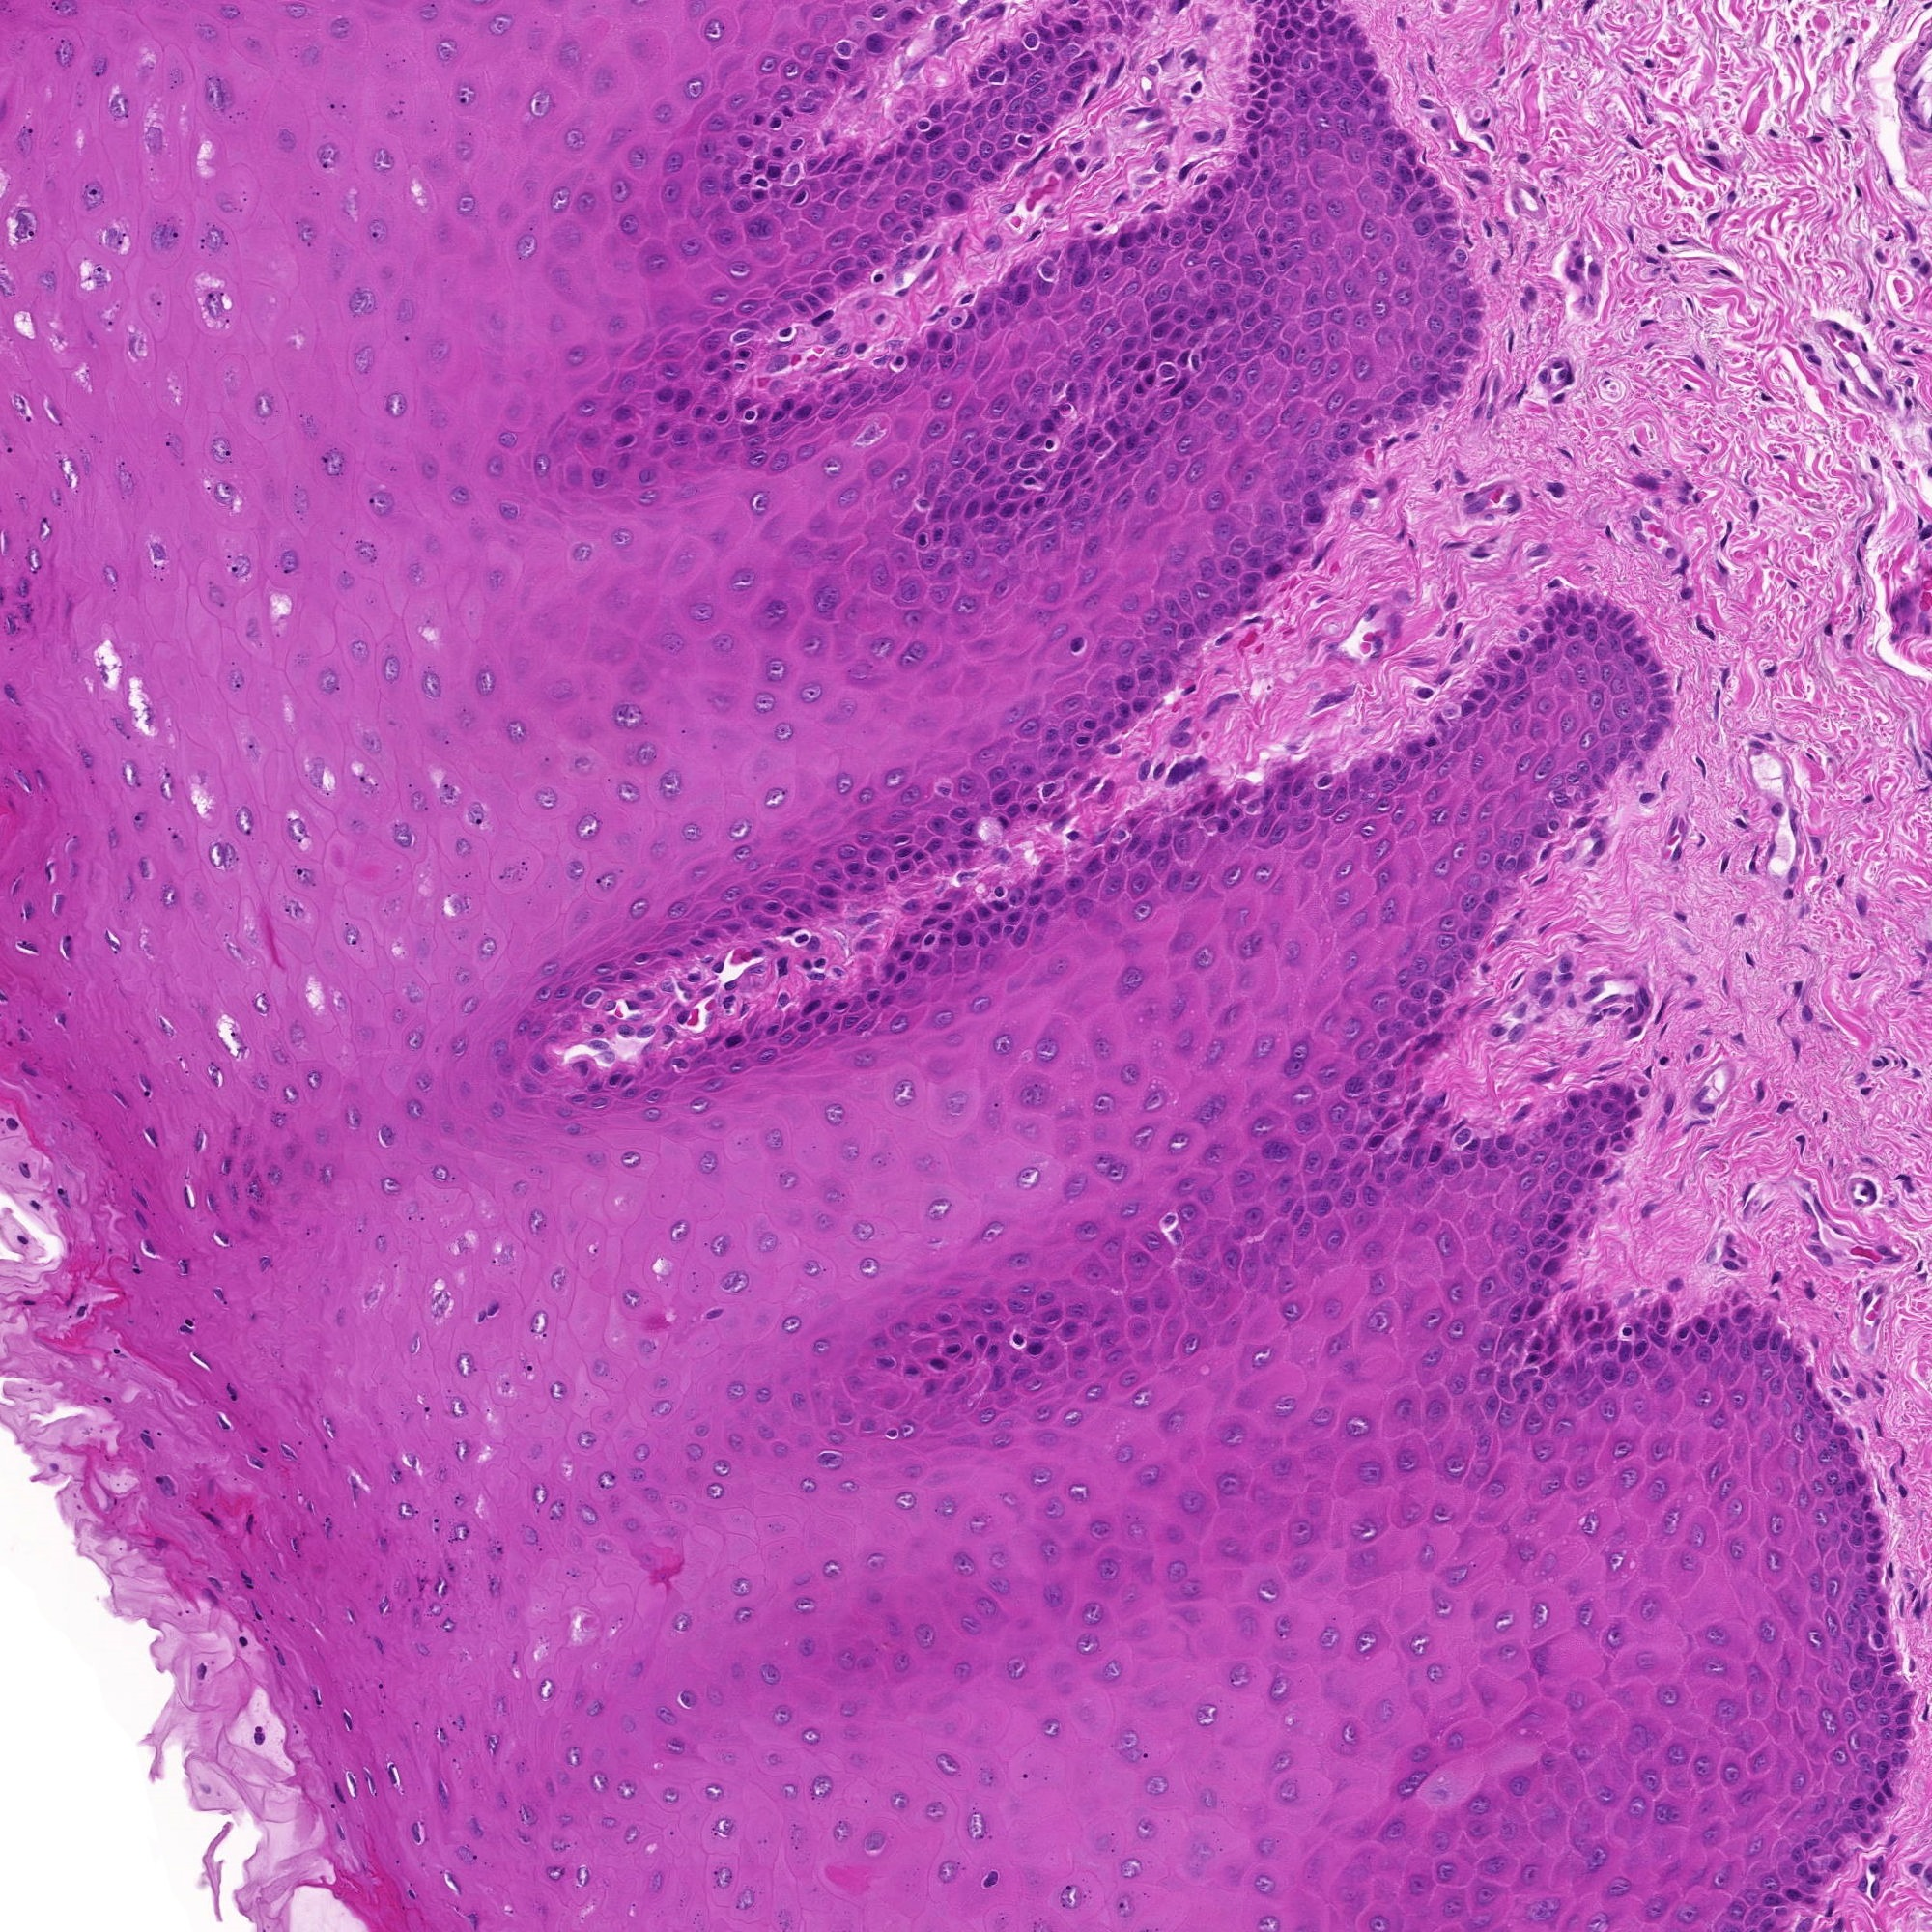epithelial: (761, 402, 793, 435), (778, 1016, 812, 1047), (1134, 363, 1168, 395), (1249, 62, 1281, 96), (1168, 311, 1200, 345), (1414, 219, 1445, 253), (975, 295, 1007, 329), (1205, 593, 1237, 626), (991, 913, 1023, 947), (1353, 1118, 1387, 1150), (1364, 1146, 1398, 1178), (1185, 1100, 1219, 1132), (152, 218, 184, 249), (99, 219, 131, 251), (370, 143, 402, 175), (103, 88, 134, 120), (34, 264, 65, 295), (117, 327, 149, 359), (209, 435, 241, 467), (12, 895, 44, 927), (97, 821, 129, 853), (142, 534, 173, 566), (274, 547, 306, 579), (53, 591, 85, 623), (28, 508, 60, 540), (281, 816, 313, 847), (336, 922, 368, 954), (18, 545, 50, 577), (124, 1201, 156, 1233), (170, 1249, 202, 1281), (198, 1058, 230, 1090), (207, 1221, 239, 1253), (120, 1253, 152, 1284), (276, 1076, 308, 1108), (375, 1757, 407, 1789), (340, 1472, 372, 1504), (149, 1467, 180, 1499), (331, 1704, 363, 1736), (324, 1815, 356, 1847), (918, 115, 950, 147), (665, 386, 697, 418), (665, 421, 697, 453), (646, 412, 678, 444), (931, 333, 962, 364), (610, 425, 642, 456), (901, 138, 932, 170), (752, 398, 784, 430), (823, 221, 855, 253), (886, 157, 918, 189), (729, 165, 761, 196), (828, 147, 860, 179), (709, 340, 741, 372), (832, 172, 863, 203), (674, 232, 706, 264), (763, 349, 794, 380), (798, 150, 830, 182), (625, 334, 656, 366), (648, 97, 679, 129), (740, 428, 771, 460), (922, 395, 954, 426), (768, 444, 800, 476), (816, 177, 847, 209), (690, 196, 722, 228), (610, 444, 642, 476), (768, 287, 800, 318), (743, 412, 775, 444), (805, 41, 837, 73), (669, 377, 701, 409), (481, 449, 513, 481), (713, 161, 745, 193), (847, 182, 879, 214), (846, 234, 878, 265), (623, 32, 655, 64), (816, 44, 847, 76), (550, 35, 582, 67), (796, 393, 828, 425), (791, 435, 823, 467), (715, 149, 747, 180), (911, 349, 943, 380), (805, 264, 837, 295), (906, 159, 938, 191), (807, 166, 839, 198), (757, 890, 789, 922), (922, 807, 954, 839), (929, 925, 961, 957), (920, 499, 952, 531), (694, 918, 725, 950), (927, 890, 959, 922), (906, 524, 938, 556), (890, 846, 922, 878), (931, 490, 962, 522), (899, 635, 931, 667), (899, 600, 931, 632), (752, 899, 784, 931), (924, 916, 955, 948), (770, 895, 801, 927), (810, 888, 842, 920), (909, 833, 941, 865), (865, 626, 897, 658), (796, 625, 828, 656), (824, 766, 856, 798), (708, 899, 740, 931), (816, 883, 847, 915), (892, 642, 924, 674), (715, 878, 747, 909), (656, 915, 688, 947), (761, 600, 793, 632), (803, 510, 835, 541), (902, 504, 934, 536), (904, 543, 936, 575), (738, 901, 770, 932), (821, 869, 853, 901), (927, 832, 959, 863), (807, 863, 839, 895), (725, 883, 757, 915), (885, 796, 916, 828), (612, 773, 644, 805), (929, 502, 961, 534), (908, 497, 939, 529), (812, 839, 844, 870), (759, 878, 791, 909), (824, 989, 856, 1021), (858, 982, 890, 1014), (805, 1001, 837, 1033), (869, 1346, 901, 1378), (885, 961, 916, 993), (938, 1330, 970, 1362), (897, 1353, 929, 1385), (747, 1378, 778, 1410), (782, 1384, 814, 1415), (837, 991, 869, 1023), (694, 1146, 725, 1178), (563, 1083, 594, 1115), (775, 1307, 807, 1339), (906, 1330, 938, 1362), (855, 975, 886, 1007), (697, 1024, 729, 1056), (786, 1000, 817, 1031), (775, 1007, 807, 1039), (796, 1007, 828, 1039), (697, 1067, 729, 1099), (520, 1014, 552, 1046), (886, 1074, 918, 1106), (761, 1125, 793, 1157), (674, 1047, 706, 1079), (821, 1097, 853, 1129), (916, 1353, 948, 1385), (543, 1373, 575, 1405), (922, 1191, 954, 1223), (858, 1824, 890, 1856), (671, 1683, 702, 1714), (511, 1798, 543, 1829), (885, 1783, 916, 1815), (729, 1598, 761, 1629), (918, 1792, 950, 1824), (931, 1493, 962, 1525), (708, 1861, 740, 1893), (616, 1509, 648, 1541), (824, 1813, 856, 1845), (550, 1803, 582, 1835), (635, 1477, 667, 1509), (541, 1497, 573, 1529), (1192, 209, 1224, 241), (1007, 416, 1039, 448), (1115, 426, 1146, 458), (1162, 318, 1194, 350), (1141, 299, 1173, 331), (1164, 299, 1196, 331), (1247, 225, 1279, 257), (1033, 39, 1065, 71), (1026, 458, 1058, 490), (1031, 426, 1063, 458), (1378, 122, 1410, 154), (1090, 234, 1122, 265), (1168, 361, 1200, 393), (1152, 354, 1184, 386), (1200, 177, 1231, 209), (1274, 18, 1306, 50), (1099, 359, 1131, 391), (1154, 313, 1185, 345), (1415, 372, 1447, 403), (982, 62, 1014, 94), (1058, 9, 1090, 41), (1028, 18, 1060, 50), (980, 90, 1012, 122), (1039, 398, 1070, 430), (1231, 142, 1263, 173), (1062, 418, 1093, 449), (1178, 343, 1210, 375), (984, 149, 1016, 180), (1039, 25, 1070, 57), (1065, 449, 1097, 481), (1058, 235, 1090, 267), (1175, 205, 1207, 237), (1327, 414, 1359, 446), (1139, 212, 1171, 244), (984, 386, 1016, 418), (962, 103, 994, 134), (1297, 460, 1329, 492), (1233, 244, 1265, 276), (1187, 202, 1219, 234), (1014, 274, 1046, 306), (1246, 318, 1277, 350), (1346, 350, 1378, 382), (1364, 96, 1396, 127), (1258, 48, 1290, 80), (1242, 175, 1274, 207), (1341, 67, 1373, 99), (984, 50, 1016, 81), (1387, 387, 1419, 419), (1237, 120, 1269, 152), (1106, 433, 1138, 465), (1272, 396, 1304, 428), (1069, 460, 1100, 492), (1161, 212, 1192, 244), (1007, 35, 1039, 67), (1169, 396, 1201, 428), (1125, 338, 1157, 370), (1419, 308, 1451, 340), (1106, 364, 1138, 396), (1240, 311, 1272, 343), (1164, 274, 1196, 306), (1037, 460, 1069, 492), (1299, 25, 1330, 57), (1108, 448, 1139, 479), (1201, 188, 1233, 219), (1023, 34, 1054, 65), (1164, 407, 1196, 439), (1157, 455, 1189, 487), (1007, 257, 1039, 288), (1320, 299, 1352, 331), (1154, 303, 1185, 334), (1341, 35, 1373, 67), (1086, 377, 1118, 409), (1154, 329, 1185, 361), (1031, 103, 1063, 134), (1329, 111, 1361, 143), (1185, 356, 1217, 387), (1309, 27, 1341, 58), (1219, 260, 1251, 292), (1060, 265, 1092, 297), (1207, 242, 1238, 274), (1254, 19, 1286, 51), (1016, 372, 1047, 403), (1182, 448, 1214, 479), (1093, 418, 1125, 449), (1026, 65, 1058, 97), (1031, 373, 1063, 405), (1076, 354, 1108, 386), (1247, 145, 1279, 177), (1300, 350, 1332, 382), (1116, 271, 1148, 303), (1320, 74, 1352, 106), (1276, 244, 1307, 276), (1161, 350, 1192, 382), (994, 418, 1026, 449), (1408, 182, 1440, 214), (1005, 449, 1037, 481), (1368, 258, 1399, 290), (1058, 867, 1090, 899), (973, 490, 1005, 522), (996, 901, 1028, 932), (1187, 793, 1219, 824), (1258, 554, 1290, 586), (1019, 885, 1051, 916), (1108, 695, 1139, 727), (1233, 570, 1265, 602), (1148, 823, 1180, 855), (1003, 920, 1035, 952), (984, 770, 1016, 801), (1016, 490, 1047, 522), (1023, 893, 1054, 925), (984, 890, 1016, 922), (1095, 835, 1127, 867), (1051, 481, 1083, 513), (1295, 481, 1327, 513), (1076, 531, 1108, 563), (1146, 837, 1178, 869), (1299, 501, 1330, 533), (1237, 927, 1269, 959), (1169, 810, 1201, 842), (996, 794, 1028, 826), (1040, 736, 1072, 768), (971, 510, 1003, 541), (1171, 862, 1203, 893), (1099, 867, 1131, 899), (1408, 747, 1440, 778), (1014, 711, 1046, 743), (1062, 715, 1093, 747), (1131, 644, 1162, 676), (1104, 706, 1136, 738), (1069, 488, 1100, 520), (961, 904, 993, 936), (1010, 775, 1042, 807), (1086, 718, 1118, 750), (1086, 633, 1118, 665), (1261, 524, 1293, 556), (1164, 925, 1196, 957), (1200, 800, 1231, 832), (1046, 741, 1077, 773), (998, 775, 1030, 807), (985, 839, 1017, 870), (1007, 890, 1039, 922), (1005, 909, 1037, 941), (1276, 506, 1307, 538), (1159, 639, 1191, 671), (1062, 738, 1093, 770), (1226, 780, 1258, 812), (1290, 768, 1322, 800), (1083, 706, 1115, 738), (1223, 527, 1254, 559), (1223, 557, 1254, 589), (970, 481, 1001, 513), (989, 754, 1021, 786), (1062, 506, 1093, 538), (1037, 488, 1069, 520), (1366, 832, 1398, 863), (1169, 630, 1201, 662), (964, 1325, 996, 1357), (1237, 1198, 1269, 1230), (1030, 1283, 1062, 1315), (982, 1357, 1014, 1389), (1215, 1240, 1247, 1272), (1421, 982, 1453, 1014), (1138, 1224, 1169, 1256), (1023, 1315, 1054, 1346), (1362, 1095, 1394, 1127), (1320, 1221, 1352, 1253), (1085, 1028, 1116, 1060), (973, 1290, 1005, 1322), (1031, 1030, 1063, 1062), (1362, 1157, 1394, 1189), (1277, 1194, 1309, 1226), (1318, 1159, 1350, 1191), (1387, 1016, 1419, 1047), (1366, 1085, 1398, 1116), (1299, 1169, 1330, 1201), (1162, 991, 1194, 1023), (1419, 1392, 1451, 1424), (1269, 1134, 1300, 1166), (1361, 1267, 1392, 1299), (1083, 1306, 1115, 1338), (1378, 1039, 1410, 1070), (1336, 1352, 1368, 1384), (1116, 962, 1148, 994), (1274, 1053, 1306, 1085), (1394, 1111, 1426, 1143), (1185, 1235, 1217, 1267), (1315, 1187, 1346, 1219), (1113, 970, 1145, 1001), (1392, 1288, 1424, 1320), (1403, 1030, 1435, 1062), (1362, 984, 1394, 1016), (1350, 1129, 1382, 1161), (1403, 1012, 1435, 1044), (964, 989, 996, 1021), (1014, 1364, 1046, 1396), (1348, 1410, 1380, 1442), (1352, 1069, 1384, 1100), (1240, 1111, 1272, 1143), (1037, 1582, 1069, 1614), (1267, 1451, 1299, 1483), (1136, 1463, 1168, 1495), (1219, 1660, 1251, 1691), (1352, 1509, 1384, 1541), (982, 1569, 1014, 1601), (1311, 1622, 1343, 1654), (1191, 1697, 1223, 1729), (1403, 1760, 1435, 1792), (1346, 1545, 1378, 1576), (1192, 1783, 1224, 1815), (1208, 1470, 1240, 1502), (975, 1592, 1007, 1624), (1454, 287, 1486, 318), (1624, 642, 1656, 674), (1530, 626, 1562, 658), (1573, 607, 1605, 639), (1614, 632, 1645, 663), (1525, 632, 1557, 663), (1557, 600, 1589, 632), (1477, 663, 1509, 695), (1499, 637, 1530, 669), (1598, 626, 1629, 658), (1546, 784, 1578, 816), (1624, 678, 1656, 709), (7, 1017, 37, 1051), (738, 398, 771, 428), (913, 543, 947, 573), (996, 51, 1026, 85), (1046, 373, 1079, 403), (1115, 387, 1145, 421), (978, 69, 1008, 103), (1031, 453, 1065, 483), (1394, 172, 1424, 205), (1265, 230, 1295, 264), (1217, 290, 1251, 320), (1194, 784, 1224, 817), (1589, 598, 1622, 628), (205, 78, 237, 108), (414, 453, 444, 485), (85, 53, 115, 85), (271, 122, 301, 154), (48, 39, 80, 69), (428, 35, 460, 65), (310, 444, 341, 474), (290, 218, 322, 248), (310, 145, 341, 175), (359, 218, 391, 248), (380, 391, 410, 423), (249, 389, 281, 419), (12, 117, 42, 149), (39, 396, 71, 426), (207, 837, 239, 867), (12, 596, 42, 628), (71, 741, 101, 773), (32, 855, 62, 886), (389, 823, 421, 853), (122, 803, 154, 833), (317, 669, 347, 701), (127, 851, 159, 881), (25, 761, 57, 791), (18, 764, 48, 796), (416, 667, 446, 699), (221, 667, 253, 697), (58, 855, 90, 885), (11, 582, 41, 614), (375, 651, 407, 681), (366, 488, 396, 520), (161, 823, 193, 853), (12, 1054, 44, 1085), (258, 1159, 290, 1189), (372, 1118, 402, 1150), (196, 1185, 228, 1215), (172, 1309, 202, 1341), (398, 1092, 428, 1123), (239, 1175, 269, 1207), (138, 1118, 168, 1150), (310, 1159, 340, 1191), (444, 1031, 474, 1063), (299, 1062, 331, 1092), (249, 1246, 280, 1277), (306, 1120, 338, 1150), (402, 1024, 432, 1056), (235, 1162, 265, 1194), (451, 1348, 483, 1378), (425, 1284, 455, 1316), (426, 1157, 456, 1189), (143, 1527, 175, 1557), (311, 1509, 343, 1539), (280, 1529, 311, 1559), (368, 1527, 398, 1559), (366, 1591, 398, 1621), (301, 1683, 333, 1713), (395, 1879, 426, 1909), (265, 1640, 295, 1672), (444, 1707, 476, 1737), (426, 1720, 458, 1750), (258, 1559, 288, 1591), (363, 1629, 395, 1660), (354, 1762, 384, 1794), (393, 1495, 425, 1525), (338, 1767, 370, 1798), (453, 1840, 485, 1870), (405, 1568, 437, 1598), (97, 1486, 129, 1516), (938, 179, 970, 209), (747, 212, 778, 242), (706, 400, 736, 432), (695, 350, 727, 380), (694, 419, 725, 449), (609, 396, 639, 428), (784, 184, 816, 214), (922, 126, 952, 157), (660, 145, 690, 177), (709, 221, 740, 253), (612, 211, 644, 241), (920, 412, 952, 442), (731, 402, 761, 433), (823, 384, 855, 414), (702, 108, 732, 140), (931, 345, 962, 375), (727, 389, 757, 421), (745, 177, 775, 209), (853, 225, 883, 257), (897, 341, 929, 372), (734, 290, 764, 322), (709, 303, 741, 333), (692, 133, 722, 165), (826, 248, 856, 280), (656, 175, 686, 207), (858, 184, 890, 214), (878, 373, 909, 403), (846, 380, 878, 410), (922, 142, 954, 172), (559, 340, 591, 370), (692, 166, 724, 196), (639, 244, 671, 274), (570, 186, 602, 216), (571, 389, 603, 419), (607, 437, 639, 467), (713, 172, 743, 203), (796, 285, 826, 317), (729, 126, 759, 157), (708, 435, 740, 465), (653, 364, 683, 396), (817, 389, 847, 421), (858, 27, 890, 57), (740, 216, 770, 248), (655, 354, 685, 386), (927, 382, 959, 412), (801, 196, 833, 226), (901, 207, 931, 239), (862, 453, 892, 485), (791, 175, 821, 207), (832, 184, 862, 216), (678, 73, 709, 103), (607, 416, 639, 446), (605, 173, 637, 203), (916, 173, 948, 203), (856, 237, 886, 269), (847, 157, 879, 188), (658, 380, 688, 412), (941, 442, 973, 472), (736, 310, 766, 341), (878, 212, 908, 244), (754, 48, 786, 78), (701, 280, 732, 310), (916, 329, 947, 361), (706, 354, 738, 384), (890, 456, 920, 488), (702, 196, 732, 228), (823, 237, 855, 267), (559, 460, 591, 490), (676, 391, 708, 421), (916, 464, 948, 494), (524, 449, 554, 481), (697, 375, 727, 407), (660, 446, 692, 476), (699, 173, 731, 203), (642, 435, 674, 465), (702, 345, 734, 375), (793, 92, 824, 122), (911, 119, 941, 150), (649, 297, 679, 329), (589, 64, 619, 96), (939, 103, 970, 134), (941, 464, 971, 495), (759, 299, 789, 331), (690, 407, 720, 439), (846, 248, 876, 280), (778, 177, 810, 207), (816, 449, 846, 481), (786, 58, 817, 88), (800, 163, 830, 195), (757, 264, 789, 294), (706, 166, 738, 196), (927, 111, 957, 143), (886, 173, 916, 205), (885, 218, 916, 248), (932, 152, 964, 182), (839, 855, 870, 885), (860, 839, 890, 870), (931, 909, 962, 939), (909, 924, 941, 954), (731, 890, 763, 920), (909, 941, 939, 973), (904, 837, 934, 869), (759, 591, 789, 623), (791, 892, 821, 924), (607, 697, 639, 727), (881, 929, 911, 961), (932, 554, 962, 586), (626, 941, 658, 971), (895, 575, 927, 605), (939, 524, 970, 556), (773, 849, 805, 879), (830, 860, 862, 890), (748, 908, 780, 938), (729, 561, 759, 593), (849, 821, 879, 853), (718, 911, 748, 943), (895, 778, 927, 809), (817, 538, 847, 570), (752, 870, 784, 901), (855, 870, 885, 902), (927, 483, 959, 513), (837, 865, 867, 897), (759, 653, 791, 683), (916, 490, 947, 522), (559, 855, 591, 885), (706, 628, 738, 658), (878, 837, 908, 869), (865, 561, 897, 591), (855, 832, 886, 862), (879, 803, 909, 835), (768, 717, 798, 748), (886, 538, 916, 570), (849, 839, 881, 869), (908, 821, 939, 851), (931, 803, 961, 835), (501, 715, 531, 747), (564, 536, 594, 568), (916, 529, 947, 561), (805, 579, 837, 609), (925, 901, 957, 931), (835, 594, 867, 625), (876, 759, 908, 789), (621, 667, 653, 697), (878, 816, 908, 847), (688, 594, 720, 625), (796, 678, 828, 708), (870, 824, 902, 855), (909, 487, 939, 518), (897, 823, 929, 853), (918, 814, 948, 846), (927, 577, 959, 607), (832, 874, 863, 904), (922, 1348, 954, 1378), (833, 1005, 863, 1037), (870, 984, 901, 1016), (814, 1008, 844, 1040), (755, 1014, 787, 1044), (524, 1049, 556, 1079), (540, 977, 571, 1007), (750, 1042, 782, 1072), (863, 1325, 893, 1357), (885, 1311, 916, 1341), (936, 1318, 968, 1348), (511, 1010, 541, 1042), (885, 1005, 915, 1037), (771, 1021, 801, 1053), (612, 961, 644, 991), (842, 1008, 874, 1039), (909, 1311, 939, 1343), (876, 1384, 906, 1415), (580, 1070, 610, 1102), (805, 1329, 835, 1361), (830, 1399, 860, 1431), (718, 1265, 748, 1297), (688, 1044, 718, 1076), (527, 975, 557, 1007), (591, 962, 623, 993), (789, 1023, 821, 1053), (490, 1049, 522, 1079), (740, 1021, 771, 1051), (683, 1086, 713, 1118), (939, 1369, 970, 1401), (614, 1281, 646, 1311), (847, 1044, 878, 1076), (936, 1277, 968, 1307), (925, 1003, 957, 1033), (823, 1000, 855, 1030), (665, 1214, 695, 1246), (846, 985, 878, 1016), (895, 978, 927, 1008), (794, 1253, 826, 1283), (676, 1037, 708, 1067), (559, 1115, 589, 1146), (552, 1007, 582, 1039), (720, 1375, 752, 1405), (770, 1162, 801, 1192), (876, 966, 908, 996), (881, 1415, 913, 1445), (522, 1205, 552, 1237), (635, 1099, 667, 1129), (791, 1633, 823, 1663), (660, 1729, 692, 1759), (812, 1442, 842, 1474), (886, 1647, 918, 1677), (858, 1582, 888, 1614), (582, 1691, 612, 1723), (711, 1810, 741, 1842), (623, 1652, 653, 1684), (878, 1612, 909, 1642), (483, 1534, 513, 1566), (897, 1454, 927, 1486), (479, 1569, 510, 1601), (540, 1856, 571, 1886), (847, 1647, 879, 1677), (832, 1644, 863, 1674), (479, 1729, 510, 1760), (621, 1460, 653, 1490), (697, 1476, 729, 1506), (860, 1545, 890, 1576), (642, 1867, 674, 1897), (531, 1672, 561, 1704), (520, 1477, 552, 1507), (1143, 315, 1175, 345), (1129, 349, 1159, 380), (1108, 225, 1139, 255), (1150, 338, 1180, 370), (1161, 373, 1192, 403), (1067, 258, 1097, 290), (1401, 186, 1431, 218), (1097, 412, 1129, 442), (1005, 280, 1035, 311), (1077, 425, 1109, 455), (1051, 462, 1083, 492), (1194, 299, 1226, 329), (1408, 211, 1440, 241), (1016, 27, 1047, 57), (1169, 341, 1200, 373), (1251, 156, 1281, 188), (978, 435, 1008, 467), (1260, 58, 1292, 88), (994, 448, 1024, 479), (1392, 382, 1424, 412), (1295, 18, 1327, 48), (1203, 377, 1235, 407), (1046, 446, 1076, 478), (1288, 80, 1318, 111), (985, 416, 1017, 446), (1212, 170, 1244, 200), (1352, 58, 1382, 90), (1261, 67, 1292, 99), (1060, 51, 1090, 83), (1175, 382, 1205, 414), (1180, 308, 1210, 340), (1315, 51, 1346, 81), (1253, 41, 1284, 71), (1086, 430, 1118, 460), (1350, 85, 1380, 117), (1063, 437, 1093, 469), (1254, 32, 1286, 62), (1394, 159, 1426, 189), (1000, 462, 1031, 492), (1210, 295, 1240, 327), (1046, 18, 1077, 48), (1311, 14, 1343, 44), (1136, 343, 1168, 373), (1162, 223, 1192, 255), (1148, 216, 1180, 246), (1364, 163, 1396, 193), (1371, 143, 1401, 175), (1026, 269, 1056, 301), (1256, 117, 1288, 147), (1115, 241, 1146, 271), (1146, 306, 1177, 338), (1263, 221, 1293, 253), (1021, 426, 1053, 456), (1238, 134, 1269, 166), (1362, 71, 1392, 103), (1014, 462, 1046, 492), (1152, 396, 1184, 426), (1332, 433, 1362, 465), (959, 149, 991, 179), (1300, 69, 1330, 101), (1237, 260, 1267, 292), (1070, 290, 1102, 320), (970, 134, 1001, 165), (1097, 441, 1129, 471), (1336, 19, 1366, 51), (1269, 248, 1299, 280), (985, 41, 1017, 71), (1065, 244, 1097, 274), (1412, 166, 1444, 196), (1215, 357, 1247, 387), (994, 106, 1024, 138), (1010, 124, 1040, 156), (971, 159, 1001, 191), (1023, 442, 1053, 474), (1051, 81, 1083, 111), (1231, 285, 1261, 317), (1419, 203, 1449, 235), (1238, 99, 1269, 131), (1330, 87, 1361, 119), (1138, 251, 1169, 281), (1205, 405, 1237, 435), (1201, 248, 1231, 280), (1184, 260, 1214, 292), (1414, 380, 1444, 412), (1010, 366, 1040, 398), (1212, 219, 1242, 251), (1332, 9, 1362, 41), (1123, 435, 1154, 467), (1389, 280, 1419, 311), (1024, 280, 1054, 311), (1387, 186, 1419, 216), (977, 226, 1007, 258), (1026, 111, 1056, 143), (1097, 310, 1127, 341), (1145, 364, 1175, 396), (1207, 274, 1237, 306), (993, 278, 1023, 310), (1178, 322, 1208, 354), (1338, 276, 1368, 308), (1348, 74, 1378, 106), (1215, 237, 1246, 269), (1246, 78, 1276, 110), (1318, 191, 1348, 223), (1007, 269, 1037, 301), (1380, 152, 1412, 182), (991, 126, 1023, 156), (1085, 416, 1115, 448), (1230, 340, 1260, 372), (1069, 272, 1100, 303), (987, 138, 1017, 170), (1256, 163, 1286, 195), (1070, 235, 1100, 267), (1260, 78, 1290, 110), (973, 50, 1003, 81), (1021, 295, 1053, 326), (1283, 88, 1315, 119), (1288, 127, 1320, 157), (1207, 196, 1238, 226), (1065, 375, 1097, 405), (966, 94, 998, 124), (1001, 44, 1031, 76), (1352, 120, 1384, 150), (1244, 90, 1276, 120), (1178, 196, 1210, 226), (1384, 398, 1415, 428), (1095, 366, 1125, 398), (962, 428, 993, 460), (1100, 402, 1131, 433), (1108, 412, 1138, 444), (1148, 280, 1180, 310), (1295, 32, 1325, 64), (994, 62, 1024, 94), (1060, 458, 1090, 490), (1318, 437, 1350, 467), (1290, 48, 1322, 78), (1371, 113, 1401, 145), (1364, 290, 1394, 322), (1223, 382, 1254, 412), (1173, 303, 1203, 334), (1244, 106, 1276, 136), (1277, 209, 1307, 241), (1302, 156, 1332, 188), (1237, 200, 1269, 230), (1136, 283, 1166, 315), (978, 42, 1008, 74), (1054, 386, 1085, 418), (1284, 336, 1316, 366), (1219, 214, 1249, 246), (1132, 322, 1164, 352), (1169, 329, 1200, 361), (1049, 27, 1079, 58), (959, 65, 991, 96), (1284, 5, 1316, 35), (1399, 349, 1431, 379), (1223, 165, 1253, 196), (1178, 242, 1208, 274), (1412, 350, 1442, 382), (1062, 23, 1093, 53), (1093, 352, 1125, 382), (971, 444, 1001, 476), (1302, 124, 1332, 156), (1304, 50, 1336, 80), (1030, 418, 1062, 448), (1237, 456, 1267, 488), (1389, 145, 1419, 177), (1345, 304, 1376, 334), (994, 437, 1024, 469), (1235, 324, 1267, 354), (1090, 407, 1122, 437), (1318, 311, 1348, 343), (1359, 111, 1389, 143), (1327, 25, 1359, 55), (1279, 403, 1309, 435), (1256, 96, 1286, 127), (1014, 97, 1046, 127), (1261, 331, 1293, 361), (1256, 106, 1286, 138), (1185, 329, 1215, 361), (1201, 203, 1231, 235), (1007, 90, 1039, 120), (970, 65, 1001, 96), (996, 396, 1026, 428), (1325, 426, 1357, 456), (1288, 27, 1320, 57), (1339, 140, 1369, 172), (1194, 193, 1226, 223), (1361, 398, 1391, 430), (1219, 320, 1251, 350), (970, 143, 1001, 173), (1208, 368, 1240, 398), (1148, 402, 1178, 433), (1108, 669, 1139, 699), (985, 782, 1017, 812), (968, 897, 1000, 927), (982, 761, 1014, 791), (985, 479, 1017, 510), (1031, 508, 1063, 538), (1237, 543, 1269, 573), (1215, 552, 1246, 584), (1219, 796, 1251, 826), (968, 925, 1000, 955), (1272, 770, 1302, 801), (1281, 771, 1311, 803), (1012, 755, 1044, 786), (1281, 533, 1311, 564), (1177, 794, 1207, 826), (1123, 828, 1154, 860), (1001, 881, 1031, 913), (1290, 786, 1322, 816), (1237, 563, 1269, 593), (1253, 778, 1283, 810), (1125, 867, 1155, 899), (1269, 782, 1300, 812), (1366, 787, 1398, 817), (1040, 755, 1072, 786), (1109, 685, 1139, 717), (1023, 874, 1053, 906), (1398, 734, 1430, 764), (1067, 890, 1099, 920), (1419, 794, 1449, 826), (1157, 863, 1189, 893), (1127, 481, 1159, 511), (1362, 748, 1394, 778), (975, 501, 1005, 533), (1215, 858, 1246, 890), (1382, 750, 1414, 780), (1230, 810, 1260, 842), (973, 906, 1003, 938), (1192, 552, 1223, 584), (1031, 775, 1063, 805), (1157, 591, 1187, 623), (1187, 603, 1217, 635), (1253, 501, 1284, 531), (1368, 863, 1399, 893), (1263, 816, 1295, 846), (1207, 511, 1238, 541), (1265, 791, 1297, 821), (1208, 789, 1240, 819), (968, 793, 1000, 823), (1286, 809, 1318, 839), (1010, 495, 1040, 527), (1201, 483, 1233, 513), (1039, 579, 1069, 610), (1122, 517, 1152, 548), (1187, 573, 1219, 603), (1118, 810, 1148, 842), (1341, 761, 1371, 793), (1056, 686, 1088, 717), (1350, 816, 1382, 846), (1113, 633, 1143, 665), (1076, 722, 1108, 752), (1214, 805, 1246, 835), (1373, 897, 1403, 929), (1373, 770, 1405, 800), (1219, 593, 1249, 625), (1350, 764, 1380, 796), (1138, 602, 1168, 633), (1024, 865, 1054, 897), (1233, 801, 1263, 833), (1203, 552, 1235, 582), (1008, 508, 1039, 540), (1033, 729, 1063, 761), (1217, 584, 1249, 614), (1169, 821, 1200, 853), (1279, 524, 1311, 554), (1178, 610, 1210, 640), (1129, 835, 1161, 865), (1053, 732, 1083, 764), (1164, 722, 1196, 752), (1008, 485, 1039, 517), (1235, 550, 1265, 582), (1109, 832, 1141, 862), (1127, 893, 1159, 924), (1307, 775, 1339, 805), (1196, 490, 1228, 520), (1051, 870, 1083, 901), (1097, 669, 1129, 699), (993, 893, 1023, 925), (1382, 801, 1414, 832), (1263, 775, 1295, 805), (993, 515, 1023, 547), (1233, 580, 1263, 612), (1327, 886, 1359, 916), (959, 587, 989, 619), (1196, 598, 1228, 628), (1019, 908, 1049, 939), (1164, 540, 1194, 571), (1247, 853, 1277, 885), (1419, 805, 1451, 835), (1070, 563, 1100, 594), (1012, 916, 1042, 948), (1295, 844, 1325, 876), (1123, 885, 1155, 915), (1122, 819, 1152, 851), (1421, 1136, 1451, 1168), (1339, 1069, 1371, 1099), (1019, 1332, 1051, 1362), (1035, 1300, 1067, 1330), (1065, 1336, 1095, 1368), (1307, 1191, 1338, 1223), (1403, 977, 1435, 1007), (1410, 1003, 1442, 1033), (1122, 1290, 1154, 1320), (1371, 1033, 1403, 1063), (1290, 1108, 1322, 1138), (1391, 1141, 1422, 1171), (1072, 1212, 1102, 1244), (1401, 1118, 1431, 1150), (1394, 1131, 1424, 1162), (1196, 1136, 1228, 1166), (1419, 994, 1451, 1024), (1125, 1299, 1155, 1330), (1343, 1154, 1373, 1185), (1391, 1391, 1421, 1422), (1279, 1046, 1311, 1076), (1092, 1322, 1122, 1353), (1173, 1194, 1205, 1224), (1311, 1060, 1343, 1090), (1288, 1212, 1320, 1242), (1086, 1088, 1118, 1118), (1016, 1077, 1047, 1108), (982, 1368, 1012, 1399), (1368, 1014, 1399, 1044), (1169, 1168, 1200, 1200), (1097, 1226, 1129, 1256), (1035, 1343, 1065, 1375), (1177, 1327, 1207, 1359), (1246, 1106, 1277, 1136), (1154, 1403, 1184, 1435), (971, 1399, 1003, 1430), (1417, 1341, 1447, 1373), (1412, 1168, 1442, 1200), (1099, 1152, 1129, 1184), (1162, 1219, 1192, 1251), (1115, 1362, 1145, 1394), (1081, 1376, 1111, 1408), (1286, 1031, 1316, 1063), (1403, 1042, 1433, 1074), (1116, 1192, 1146, 1224), (1417, 1304, 1447, 1336), (1417, 1154, 1447, 1185), (1410, 982, 1442, 1012), (993, 1357, 1024, 1387), (1215, 1415, 1247, 1445), (1350, 1111, 1380, 1143), (1138, 1081, 1168, 1113), (1031, 1307, 1062, 1339), (1364, 1106, 1394, 1138), (1373, 1143, 1405, 1173), (1348, 1205, 1378, 1237), (1288, 1076, 1320, 1106), (1028, 1398, 1060, 1428), (1284, 1201, 1315, 1233), (1297, 1194, 1329, 1224), (1001, 1348, 1031, 1380), (1162, 1120, 1192, 1152), (1387, 966, 1419, 996), (1387, 1033, 1417, 1065), (1214, 998, 1246, 1028), (1171, 1028, 1201, 1060), (1058, 1171, 1090, 1201), (1348, 1033, 1378, 1065), (1410, 1100, 1442, 1131), (1348, 1086, 1378, 1118), (959, 1309, 989, 1341), (1378, 1026, 1408, 1058), (1270, 1392, 1300, 1424), (1306, 1403, 1338, 1433), (1058, 1405, 1090, 1435), (1008, 1330, 1039, 1362), (1387, 1099, 1419, 1129), (1028, 1327, 1058, 1359), (1403, 1150, 1433, 1182), (991, 1382, 1021, 1414), (1235, 1246, 1267, 1276), (1341, 1115, 1371, 1146), (1315, 1168, 1345, 1200), (1129, 1120, 1159, 1152), (1088, 1143, 1118, 1175), (1401, 1868, 1433, 1898), (1357, 1458, 1389, 1488), (1378, 1812, 1410, 1842), (1389, 1444, 1421, 1474), (1214, 1465, 1246, 1495), (1394, 1767, 1426, 1798), (1267, 1612, 1299, 1642), (1074, 1594, 1106, 1624), (1033, 1534, 1063, 1566), (1261, 1674, 1292, 1706), (1346, 1624, 1378, 1654), (1178, 1488, 1210, 1518), (1254, 1573, 1286, 1603), (1403, 1748, 1433, 1780), (1336, 1718, 1366, 1750), (1177, 1576, 1207, 1608), (1063, 1532, 1095, 1562), (1389, 1771, 1419, 1803), (1392, 1500, 1424, 1530), (1129, 1548, 1159, 1580), (1095, 1656, 1125, 1688), (1053, 1877, 1083, 1909), (1106, 1890, 1138, 1920), (1247, 1833, 1279, 1863), (1265, 1744, 1297, 1775), (1131, 1810, 1161, 1842), (1361, 1902, 1392, 1932), (1422, 1497, 1453, 1529), (1454, 318, 1484, 350), (1458, 299, 1488, 331), (1442, 301, 1472, 333), (1451, 276, 1481, 308), (1440, 322, 1472, 352), (1560, 614, 1592, 644), (1488, 667, 1520, 697), (1534, 612, 1564, 644), (1548, 591, 1580, 621), (1568, 593, 1599, 623), (1504, 683, 1534, 715), (1550, 609, 1582, 639), (1504, 662, 1536, 692), (1453, 692, 1484, 722), (1645, 692, 1677, 722), (1525, 649, 1557, 679), (1453, 938, 1484, 968), (1559, 633, 1591, 663), (1582, 681, 1614, 711), (1529, 750, 1560, 780), (1460, 916, 1491, 947), (1454, 886, 1484, 918), (1622, 626, 1652, 658), (1642, 663, 1672, 695), (1493, 644, 1525, 674), (1559, 763, 1591, 793), (1033, 720, 1067, 748), (343, 281, 373, 311), (7, 205, 37, 235), (326, 11, 356, 41), (448, 83, 478, 113), (83, 258, 113, 288), (451, 188, 481, 218), (237, 28, 267, 58), (297, 39, 327, 69), (196, 80, 226, 110), (9, 573, 39, 603), (44, 886, 74, 916), (433, 775, 464, 805), (154, 879, 184, 909), (2, 870, 32, 901), (134, 701, 165, 731), (462, 803, 492, 833), (352, 538, 382, 568), (97, 927, 127, 957), (446, 830, 476, 860), (446, 890, 476, 920), (60, 828, 90, 858), (120, 759, 150, 789), (212, 1148, 242, 1178), (262, 1102, 292, 1132), (276, 1136, 306, 1166), (134, 1231, 165, 1261), (126, 1184, 156, 1214), (409, 1067, 439, 1097), (218, 1177, 248, 1207), (182, 1127, 212, 1157), (341, 1102, 372, 1132), (375, 1168, 405, 1198), (55, 1072, 85, 1102), (104, 1081, 134, 1111), (241, 1200, 271, 1230), (219, 1118, 249, 1148), (433, 1111, 464, 1141), (449, 1074, 479, 1104), (184, 1341, 214, 1371), (234, 1152, 264, 1182), (315, 1410, 345, 1440), (364, 1226, 395, 1256), (433, 1610, 464, 1640), (460, 1812, 490, 1842), (195, 1470, 225, 1500), (426, 1571, 456, 1601), (338, 1599, 368, 1629), (648, 380, 678, 410), (734, 414, 764, 444), (685, 396, 715, 426), (789, 396, 819, 426), (725, 189, 755, 219), (796, 60, 826, 90), (573, 425, 603, 455), (625, 142, 655, 172), (741, 442, 771, 472), (584, 462, 614, 492), (768, 80, 798, 110), (814, 398, 844, 428), (809, 152, 839, 182), (695, 329, 725, 359), (832, 264, 862, 294), (913, 196, 943, 226), (925, 327, 955, 357), (870, 205, 901, 235), (925, 154, 955, 184), (892, 188, 922, 218), (602, 308, 632, 338), (773, 280, 803, 310), (807, 276, 837, 306), (840, 152, 870, 182), (632, 460, 662, 490), (840, 373, 870, 403), (886, 134, 916, 165), (655, 338, 685, 368), (612, 366, 642, 396), (833, 161, 863, 191), (722, 87, 752, 117), (775, 51, 805, 81), (908, 127, 938, 157), (938, 161, 968, 191), (906, 345, 936, 375), (699, 16, 729, 46), (490, 425, 520, 455), (824, 154, 855, 184), (899, 193, 929, 223), (832, 377, 862, 407), (876, 150, 906, 180), (782, 226, 812, 257), (816, 377, 846, 407), (888, 837, 918, 867), (812, 876, 842, 906), (890, 941, 920, 971), (922, 518, 952, 548), (918, 830, 948, 860), (893, 511, 924, 541), (885, 823, 915, 853), (819, 860, 849, 890), (938, 844, 968, 874), (855, 860, 885, 890), (915, 906, 945, 936), (805, 847, 835, 878), (922, 823, 952, 853), (660, 938, 690, 968), (943, 798, 973, 828), (771, 879, 801, 909), (833, 839, 863, 869), (681, 927, 711, 957), (653, 768, 683, 798), (939, 495, 970, 525), (662, 892, 692, 922), (814, 587, 844, 617), (628, 740, 658, 770), (492, 497, 522, 527), (899, 924, 929, 954), (745, 488, 775, 518), (901, 941, 931, 971), (849, 780, 879, 810), (725, 835, 755, 865), (867, 833, 897, 863), (676, 817, 706, 847), (925, 938, 955, 968), (702, 522, 732, 552), (847, 803, 878, 833), (603, 522, 633, 552), (773, 819, 803, 849), (587, 865, 617, 895), (789, 1012, 819, 1042), (929, 1304, 959, 1334), (916, 1373, 947, 1403), (722, 1049, 752, 1079), (616, 1077, 646, 1108), (639, 1079, 669, 1109), (570, 980, 600, 1010), (855, 1410, 885, 1440), (665, 1047, 695, 1077), (839, 1368, 869, 1398), (513, 1070, 543, 1100), (708, 1231, 738, 1261), (481, 1095, 511, 1125), (616, 1143, 646, 1173), (607, 1067, 637, 1097), (586, 1086, 616, 1116), (851, 1249, 881, 1279), (750, 1417, 780, 1447), (892, 1412, 922, 1442), (579, 1143, 609, 1173), (686, 1415, 717, 1445), (755, 1658, 786, 1688), (789, 1587, 819, 1617), (649, 1698, 679, 1729), (655, 1780, 685, 1810), (768, 1698, 798, 1729), (934, 1746, 964, 1776), (805, 1766, 835, 1796), (793, 1470, 823, 1500), (722, 1656, 752, 1686), (669, 1606, 699, 1637), (587, 1766, 617, 1796), (724, 1569, 754, 1599), (699, 1776, 729, 1806), (708, 1451, 738, 1481), (794, 1720, 824, 1750), (835, 1695, 865, 1725), (561, 1741, 591, 1771), (614, 1775, 644, 1805), (931, 1856, 961, 1886), (616, 1817, 646, 1847), (943, 1545, 973, 1575), (1387, 163, 1417, 193), (1134, 414, 1164, 444), (1014, 446, 1044, 476), (1127, 221, 1157, 251), (1113, 329, 1143, 359), (1350, 48, 1380, 78), (1249, 294, 1279, 324), (1111, 345, 1141, 375), (1010, 46, 1040, 76), (1417, 361, 1447, 391), (1125, 372, 1155, 402), (1384, 177, 1414, 207), (1191, 338, 1221, 368), (968, 294, 998, 324), (1233, 306, 1263, 336), (1405, 163, 1435, 193), (1251, 237, 1281, 267), (1184, 228, 1214, 258), (1269, 9, 1299, 39), (1297, 283, 1327, 313), (1092, 257, 1122, 287), (968, 460, 998, 490), (1322, 12, 1352, 42), (1056, 377, 1086, 407), (1053, 453, 1083, 483), (1014, 108, 1044, 138), (1108, 384, 1138, 414), (1389, 251, 1419, 281), (1330, 57, 1361, 87), (1394, 140, 1424, 170), (1077, 230, 1108, 260), (998, 260, 1028, 290), (994, 78, 1024, 108), (1364, 108, 1394, 138), (1021, 73, 1051, 103), (1033, 255, 1063, 285), (1127, 359, 1157, 389), (1269, 338, 1299, 368), (1316, 4, 1346, 34), (1276, 182, 1306, 212), (1060, 345, 1090, 375), (1309, 87, 1339, 117), (1159, 341, 1189, 372), (1065, 428, 1095, 458), (1014, 410, 1044, 441), (1269, 0, 1299, 30), (1417, 177, 1447, 207), (1253, 329, 1283, 359), (1394, 322, 1424, 352), (1201, 336, 1231, 366), (1237, 359, 1267, 389), (1125, 327, 1155, 357), (1352, 211, 1382, 241), (1299, 304, 1329, 334), (1201, 320, 1231, 350), (987, 444, 1017, 474), (1254, 272, 1284, 303), (1120, 311, 1150, 341), (971, 306, 1001, 336), (1302, 223, 1332, 253), (1231, 159, 1261, 189), (1189, 290, 1219, 320), (1295, 196, 1325, 226), (1240, 299, 1270, 329), (1258, 11, 1288, 41), (1350, 421, 1380, 451), (1092, 446, 1122, 476), (1223, 448, 1253, 478), (1247, 267, 1277, 297), (1079, 336, 1109, 366), (1169, 425, 1200, 455), (991, 464, 1021, 494), (985, 85, 1016, 115), (1281, 366, 1311, 396), (1422, 334, 1453, 364), (994, 88, 1024, 119), (1253, 2, 1283, 32), (1047, 393, 1077, 423), (1106, 352, 1136, 382), (1332, 65, 1362, 96), (1419, 188, 1449, 218), (1203, 347, 1233, 377), (1419, 345, 1449, 375), (1086, 308, 1116, 338), (1141, 326, 1171, 356), (1277, 32, 1307, 62), (1054, 34, 1085, 64), (1116, 230, 1146, 260), (998, 97, 1028, 127), (1039, 435, 1069, 465), (959, 304, 989, 334), (1016, 58, 1046, 88), (1304, 5, 1334, 35), (993, 495, 1023, 525), (1024, 487, 1054, 517), (980, 913, 1010, 943), (1131, 658, 1161, 688), (1207, 810, 1237, 840), (1026, 902, 1056, 932), (1039, 881, 1069, 911), (1171, 616, 1201, 646), (1067, 724, 1097, 754), (1074, 708, 1104, 738), (1125, 690, 1155, 720), (1249, 812, 1279, 842), (1325, 778, 1355, 809), (959, 492, 989, 522), (1270, 759, 1300, 789), (1035, 525, 1065, 556), (1031, 885, 1062, 915), (1109, 483, 1139, 513), (1150, 663, 1180, 694), (985, 571, 1016, 602), (1311, 793, 1341, 823), (987, 531, 1017, 561), (1382, 761, 1412, 791), (1093, 701, 1123, 731), (1001, 481, 1031, 511), (1116, 589, 1146, 619), (1154, 616, 1184, 646), (1047, 717, 1077, 747), (1164, 830, 1194, 860), (1253, 803, 1283, 833), (968, 630, 998, 660), (1141, 828, 1171, 858), (1056, 497, 1086, 527), (1419, 777, 1449, 807), (984, 492, 1014, 522), (982, 511, 1012, 541), (1380, 612, 1410, 642), (1131, 824, 1161, 855), (1033, 741, 1063, 771), (1251, 559, 1281, 589), (1081, 497, 1111, 527), (1141, 658, 1171, 688), (1007, 518, 1037, 548), (971, 939, 1001, 970), (985, 908, 1016, 938), (980, 1311, 1010, 1341), (1414, 1024, 1444, 1054), (1269, 1166, 1299, 1196), (1361, 1127, 1391, 1157), (1258, 1132, 1288, 1162), (1005, 1359, 1035, 1389), (978, 1336, 1008, 1366), (1373, 1063, 1403, 1093), (1403, 1141, 1433, 1171), (1382, 1161, 1412, 1191), (1297, 1145, 1327, 1175), (1373, 1108, 1403, 1138), (1123, 1242, 1154, 1272), (1003, 1244, 1033, 1274), (1001, 1290, 1031, 1320), (1332, 1182, 1362, 1212), (1394, 1092, 1424, 1122), (1320, 1148, 1350, 1178), (1334, 1129, 1364, 1159), (1353, 1177, 1384, 1207), (1392, 993, 1422, 1023), (1405, 1210, 1435, 1240), (1230, 1162, 1260, 1192), (1063, 1295, 1093, 1325), (1116, 1058, 1146, 1088), (1357, 1233, 1387, 1263), (1200, 1092, 1230, 1122), (1274, 1297, 1304, 1327), (1265, 1223, 1295, 1253), (978, 1346, 1008, 1376), (1182, 1263, 1212, 1293), (989, 1030, 1019, 1060), (1063, 1346, 1093, 1376), (1270, 1177, 1300, 1207), (1191, 1180, 1221, 1210), (1010, 1276, 1040, 1306), (1371, 1076, 1401, 1106), (1077, 1254, 1108, 1284), (1322, 1099, 1352, 1129), (1403, 996, 1433, 1026), (1224, 1219, 1254, 1249), (1322, 1329, 1352, 1359), (1272, 1191, 1302, 1221), (1247, 1341, 1277, 1371), (1338, 1415, 1368, 1445), (1100, 1339, 1131, 1369), (1364, 1307, 1394, 1338), (1316, 1292, 1346, 1322), (1341, 1008, 1371, 1039), (1230, 1384, 1260, 1414), (994, 1318, 1024, 1348), (1346, 1077, 1376, 1108), (1016, 1343, 1046, 1373), (1085, 1511, 1115, 1541), (1159, 1520, 1189, 1550), (1405, 1739, 1435, 1769), (1072, 1626, 1102, 1656), (1024, 1463, 1054, 1493), (1037, 1495, 1067, 1525), (1162, 1557, 1192, 1587), (1288, 1511, 1318, 1541), (1063, 1479, 1093, 1509), (1401, 1631, 1431, 1661), (1212, 1534, 1242, 1564), (1284, 1552, 1315, 1582), (1445, 334, 1476, 364), (1440, 251, 1470, 281), (1576, 617, 1606, 648), (1476, 881, 1506, 911), (1504, 847, 1534, 878), (1463, 679, 1493, 709), (1525, 816, 1555, 846), (1534, 603, 1564, 633), (1543, 596, 1573, 626), (1638, 718, 1668, 748), (1486, 847, 1516, 878), (1472, 692, 1502, 722), (425, 1776, 456, 1805), (724, 253, 755, 281), (768, 412, 796, 444), (893, 140, 922, 172), (653, 418, 681, 449), (939, 925, 971, 954), (623, 893, 655, 922), (915, 520, 943, 552), (1265, 44, 1297, 73), (962, 453, 994, 481), (1157, 380, 1185, 412), (964, 349, 996, 377), (978, 464, 1010, 492), (1118, 359, 1146, 391), (1320, 384, 1352, 412), (1251, 789, 1279, 821), (1217, 563, 1246, 594), (1093, 1295, 1122, 1327), (1000, 1654, 1028, 1686), (1035, 1713, 1067, 1741), (968, 1587, 1000, 1615), (1419, 1656, 1447, 1688), (1246, 1870, 1277, 1898), (106, 711, 134, 741), (248, 989, 278, 1017), (945, 136, 973, 166), (768, 198, 796, 228), (789, 534, 817, 564), (485, 1033, 513, 1063), (909, 1619, 939, 1647), (816, 1555, 846, 1583), (1279, 12, 1309, 41), (1033, 410, 1063, 439), (1185, 191, 1215, 219), (1081, 349, 1111, 377), (1292, 0, 1322, 28), (989, 295, 1017, 326), (1081, 327, 1111, 356), (1001, 338, 1031, 366), (1077, 853, 1108, 881), (1283, 784, 1311, 814), (1054, 1315, 1085, 1343), (1146, 1286, 1175, 1316), (1125, 1313, 1154, 1343), (1380, 1012, 1408, 1042), (1412, 1136, 1442, 1164), (1093, 1552, 1122, 1582), (1608, 607, 1637, 637)
fibroblast and endothelial: (1612, 51, 1644, 85), (195, 280, 226, 311), (219, 552, 251, 584), (232, 812, 264, 844), (64, 1293, 96, 1325), (12, 1286, 44, 1318), (101, 1336, 133, 1368), (131, 1072, 163, 1104), (234, 1506, 265, 1537), (186, 1654, 218, 1686), (195, 1502, 226, 1534), (322, 1776, 354, 1808), (449, 1514, 481, 1546), (915, 235, 947, 267), (862, 251, 893, 283), (777, 396, 809, 428), (927, 297, 959, 329), (784, 290, 816, 322), (814, 350, 846, 382), (886, 241, 918, 272), (768, 131, 800, 163), (807, 290, 839, 322), (890, 2, 922, 34), (865, 343, 897, 375), (893, 221, 925, 253), (752, 142, 784, 173), (778, 154, 810, 186), (842, 69, 874, 101), (796, 927, 828, 959), (777, 918, 809, 950), (777, 899, 809, 931), (786, 922, 817, 954), (895, 853, 927, 885), (911, 855, 943, 886), (938, 885, 970, 916), (717, 1024, 748, 1056), (598, 1063, 630, 1095), (667, 1001, 699, 1033), (729, 996, 761, 1028), (582, 1028, 614, 1060), (653, 1023, 685, 1054), (1168, 156, 1200, 188), (1168, 41, 1200, 73), (1067, 149, 1099, 180), (1180, 71, 1212, 103), (1373, 426, 1405, 458), (1024, 138, 1056, 170), (1408, 88, 1440, 120), (1099, 7, 1131, 39), (1030, 131, 1062, 163), (961, 285, 993, 317), (1178, 60, 1210, 92), (1095, 62, 1127, 94), (1138, 53, 1169, 85), (1132, 80, 1164, 111), (1028, 5, 1060, 37), (1086, 57, 1118, 88), (993, 193, 1024, 225), (982, 874, 1014, 906), (1056, 819, 1088, 851), (1097, 732, 1129, 764), (1173, 674, 1205, 706), (1162, 748, 1194, 780), (1237, 591, 1269, 623), (1198, 692, 1230, 724), (1042, 794, 1074, 826), (1090, 773, 1122, 805), (1169, 708, 1201, 740), (1327, 681, 1359, 713), (1421, 1085, 1453, 1116), (1366, 1120, 1398, 1152), (1504, 379, 1536, 410), (1645, 232, 1677, 264), (1564, 246, 1596, 278), (1445, 131, 1477, 163), (1842, 175, 1874, 207), (1541, 349, 1573, 380), (1716, 180, 1748, 212), (1672, 372, 1704, 403), (1514, 278, 1546, 310), (1874, 219, 1905, 251), (1863, 239, 1895, 271), (1874, 163, 1905, 195), (1486, 209, 1518, 241), (1518, 175, 1550, 207), (1626, 81, 1658, 113), (1550, 437, 1582, 469), (1847, 331, 1879, 363), (1511, 55, 1543, 87), (1884, 448, 1916, 479), (1674, 287, 1706, 318), (1842, 50, 1874, 81), (1456, 166, 1488, 198), (1633, 103, 1665, 134), (1651, 456, 1683, 488), (1698, 257, 1730, 288), (1691, 616, 1723, 648), (1725, 807, 1757, 839), (1812, 614, 1844, 646), (1737, 490, 1769, 522), (1707, 524, 1739, 556), (1647, 764, 1679, 796), (1499, 487, 1530, 518), (1592, 517, 1624, 548), (1842, 550, 1874, 582), (1661, 837, 1693, 869), (1484, 922, 1516, 954), (1852, 782, 1884, 814), (1525, 863, 1557, 895), (1744, 727, 1776, 759), (761, 111, 791, 145), (711, 359, 741, 393), (929, 235, 962, 265), (768, 982, 798, 1016), (1189, 120, 1223, 150), (1888, 587, 1918, 621), (78, 175, 108, 207), (12, 214, 44, 244), (51, 925, 81, 957), (12, 929, 42, 961), (285, 856, 317, 886), (0, 679, 30, 711), (347, 763, 377, 794), (46, 1177, 78, 1207), (9, 1152, 39, 1184), (19, 1189, 50, 1221), (131, 1421, 161, 1453), (205, 1277, 235, 1309), (0, 1108, 30, 1139), (226, 1626, 258, 1656), (242, 1721, 274, 1752), (234, 1566, 264, 1598), (400, 1817, 432, 1847), (242, 1599, 274, 1629), (398, 1445, 428, 1477), (729, 338, 759, 370), (759, 157, 791, 188), (757, 106, 789, 136), (752, 163, 782, 195), (771, 317, 801, 349), (743, 149, 773, 180), (844, 333, 876, 363), (824, 50, 856, 80), (865, 143, 897, 173), (773, 96, 803, 127), (743, 103, 773, 134), (764, 103, 796, 133), (925, 7, 957, 37), (918, 322, 950, 352), (846, 78, 876, 110), (904, 237, 936, 267), (941, 226, 971, 258), (816, 60, 847, 90), (911, 258, 943, 288), (736, 159, 768, 189), (778, 126, 810, 156), (826, 334, 858, 364), (725, 320, 755, 352), (812, 122, 844, 152), (832, 65, 863, 96), (939, 18, 971, 48), (886, 278, 918, 308), (784, 96, 816, 126), (816, 145, 846, 177), (932, 88, 962, 120), (814, 133, 844, 165), (847, 287, 878, 318), (837, 142, 867, 173), (842, 260, 874, 290), (741, 936, 771, 968), (766, 943, 798, 973), (878, 860, 909, 890), (801, 939, 832, 971), (791, 943, 823, 973), (897, 890, 927, 922), (847, 929, 879, 959), (874, 941, 904, 973), (771, 911, 803, 941), (711, 985, 743, 1016), (801, 961, 832, 993), (678, 962, 709, 993), (609, 1016, 640, 1046), (648, 1016, 679, 1046), (582, 1014, 614, 1044), (697, 1299, 729, 1329), (630, 978, 660, 1010), (671, 977, 702, 1007), (568, 1051, 598, 1083), (663, 994, 695, 1024), (633, 1014, 663, 1046), (594, 1461, 626, 1491), (1076, 78, 1106, 110), (1100, 55, 1131, 87), (1077, 50, 1108, 81), (1134, 97, 1166, 127), (1083, 209, 1113, 241), (1077, 219, 1108, 251), (1017, 219, 1049, 249), (1077, 67, 1108, 99), (1054, 150, 1086, 180), (1391, 423, 1422, 453), (1385, 5, 1415, 37), (1122, 96, 1152, 127), (1148, 44, 1180, 74), (1240, 48, 1272, 78), (1047, 152, 1077, 184), (1104, 182, 1136, 212), (1177, 44, 1207, 76), (1138, 191, 1169, 221), (1019, 145, 1051, 175), (1192, 7, 1224, 37), (1016, 134, 1047, 165), (1201, 120, 1233, 150), (1145, 149, 1175, 180), (1079, 150, 1109, 182), (1237, 71, 1269, 101), (1154, 120, 1185, 150), (1392, 127, 1422, 159), (1070, 57, 1102, 87), (1053, 159, 1083, 191), (1415, 97, 1447, 127), (1378, 416, 1408, 448), (1049, 134, 1081, 165), (1207, 625, 1238, 655), (1182, 748, 1212, 780), (1168, 757, 1200, 787), (1415, 725, 1445, 757), (1410, 678, 1440, 709), (1154, 754, 1185, 784), (1046, 805, 1076, 837), (1309, 764, 1339, 796), (1194, 773, 1226, 803), (1316, 685, 1348, 715), (1076, 770, 1106, 801), (1085, 770, 1116, 800), (1357, 596, 1387, 628), (1392, 524, 1424, 554), (1309, 686, 1339, 718), (1214, 683, 1246, 713), (1026, 793, 1058, 823), (1341, 494, 1373, 524), (1083, 824, 1115, 855), (1067, 763, 1097, 794), (1385, 518, 1417, 548), (1353, 479, 1385, 510), (1031, 849, 1062, 881), (1401, 646, 1431, 678), (1293, 538, 1325, 568), (1422, 660, 1453, 692), (1090, 817, 1120, 849), (1403, 727, 1435, 757), (1169, 740, 1200, 771), (1394, 1083, 1426, 1113), (1698, 145, 1729, 177), (1709, 257, 1741, 287), (1799, 343, 1829, 375), (1559, 253, 1591, 283), (1545, 382, 1575, 414), (1697, 202, 1729, 232), (1697, 134, 1727, 166), (1474, 126, 1506, 156), (1468, 106, 1499, 138), (1829, 119, 1861, 149), (1507, 143, 1539, 173), (1684, 345, 1714, 377), (1790, 333, 1822, 363), (1799, 124, 1831, 154), (1828, 372, 1859, 402), (1833, 318, 1865, 349), (1619, 433, 1651, 464), (1748, 382, 1780, 412), (1893, 386, 1923, 418), (1633, 48, 1663, 80), (1859, 446, 1890, 478), (1874, 382, 1904, 414), (1895, 81, 1925, 113), (1833, 25, 1865, 55), (1633, 465, 1665, 495), (1895, 216, 1927, 246), (1757, 119, 1789, 149), (1629, 306, 1661, 336), (1479, 251, 1511, 281), (1472, 214, 1504, 244), (1644, 152, 1674, 184), (1782, 23, 1812, 55), (1882, 331, 1914, 361), (1819, 310, 1849, 341), (1637, 244, 1667, 276), (1539, 464, 1571, 494), (1898, 246, 1930, 276), (1456, 177, 1486, 209), (1442, 352, 1474, 382), (1548, 372, 1580, 402), (1438, 370, 1470, 400), (1467, 372, 1499, 402), (1453, 225, 1483, 257), (1470, 396, 1500, 428), (1898, 103, 1930, 133), (1888, 73, 1920, 103), (1898, 65, 1928, 97), (1633, 329, 1663, 361), (1481, 370, 1511, 402), (1670, 464, 1702, 494), (1829, 349, 1859, 380), (1484, 57, 1516, 87), (1881, 386, 1911, 418), (1670, 579, 1702, 609), (1667, 552, 1698, 582), (1465, 538, 1495, 570), (1852, 517, 1884, 547), (1755, 656, 1787, 686), (1737, 849, 1767, 881), (1709, 847, 1739, 879), (1566, 807, 1596, 839), (1773, 878, 1803, 909), (1844, 540, 1874, 571), (1582, 824, 1612, 856), (1725, 904, 1755, 936), (1684, 748, 1716, 778), (1824, 865, 1856, 895), (1665, 901, 1695, 932), (1537, 568, 1569, 598), (1881, 619, 1913, 649), (1833, 623, 1863, 655), (1679, 483, 1711, 513), (1845, 596, 1875, 628), (1845, 892, 1877, 922), (1454, 481, 1486, 511), (1622, 748, 1652, 780), (218, 1378, 248, 1408), (7, 1224, 37, 1254), (55, 1284, 85, 1315), (172, 1182, 202, 1212), (92, 1384, 122, 1414), (48, 1003, 78, 1033), (209, 1410, 239, 1440), (198, 1580, 228, 1610), (382, 1458, 412, 1488), (200, 1568, 230, 1598), (242, 1447, 272, 1477), (458, 1902, 488, 1932), (437, 1552, 467, 1582), (809, 301, 839, 331), (763, 140, 793, 170), (920, 97, 950, 127), (771, 389, 801, 419), (908, 110, 938, 140), (816, 322, 846, 352), (801, 306, 832, 336), (939, 189, 970, 219), (865, 303, 895, 333), (724, 352, 754, 382), (764, 395, 794, 425), (754, 931, 784, 961), (847, 906, 878, 936), (702, 943, 732, 973), (745, 927, 775, 957), (732, 939, 763, 970), (885, 853, 915, 883), (713, 975, 743, 1005), (794, 993, 824, 1023), (623, 1016, 653, 1046), (692, 975, 722, 1005), (479, 1293, 510, 1323), (594, 991, 625, 1021), (513, 1352, 543, 1382), (787, 985, 817, 1016), (640, 977, 671, 1007), (1178, 159, 1208, 189), (1012, 152, 1042, 182), (1062, 67, 1092, 97), (1421, 108, 1451, 138), (1062, 131, 1092, 161), (1185, 163, 1215, 193), (964, 58, 994, 88), (1415, 48, 1445, 78), (1161, 761, 1191, 791), (1143, 755, 1173, 786), (1237, 605, 1267, 635), (1302, 543, 1332, 573), (1016, 793, 1046, 823), (1129, 755, 1159, 786), (1362, 628, 1392, 658), (993, 878, 1023, 908), (1207, 688, 1237, 718), (1415, 1093, 1445, 1123), (1405, 1109, 1435, 1139), (975, 1865, 1005, 1895), (1550, 359, 1580, 389), (1619, 127, 1649, 157), (1826, 313, 1856, 343), (1665, 226, 1695, 257), (1465, 161, 1495, 191), (1529, 361, 1559, 391), (1852, 303, 1882, 333), (1875, 308, 1905, 338), (1536, 354, 1566, 384), (1890, 349, 1920, 379), (1861, 359, 1891, 389), (1495, 326, 1525, 356), (1445, 462, 1476, 492), (1615, 219, 1645, 249), (1854, 377, 1884, 407), (1445, 239, 1476, 269), (1573, 283, 1603, 313), (1764, 442, 1794, 472), (1560, 264, 1591, 294), (1465, 380, 1495, 410), (1893, 94, 1923, 124), (1631, 782, 1661, 812), (1530, 837, 1560, 867), (1760, 794, 1790, 824), (1707, 554, 1737, 584), (828, 34, 860, 62), (874, 12, 906, 41), (833, 359, 865, 387), (800, 984, 828, 1016), (1171, 85, 1203, 113), (1062, 628, 1090, 660), (1576, 249, 1605, 281), (1902, 334, 1930, 366), (890, 234, 920, 262), (989, 807, 1017, 837), (1881, 593, 1909, 623), (959, 812, 985, 844), (959, 828, 985, 860)
inflammatory: (1893, 331, 1925, 361)
lymphocyte: (893, 119, 925, 150), (667, 984, 699, 1016), (1242, 12, 1274, 44), (1104, 817, 1136, 849), (616, 989, 646, 1021), (685, 970, 715, 1001), (660, 971, 692, 1001), (1352, 402, 1382, 433), (1242, 57, 1272, 88), (1033, 195, 1063, 226), (1237, 789, 1267, 821), (1003, 1322, 1033, 1353), (1154, 1203, 1184, 1235), (1895, 364, 1925, 396), (1874, 446, 1905, 476), (885, 345, 915, 375), (863, 264, 893, 294), (1265, 103, 1295, 133), (1734, 943, 1764, 973), (939, 306, 971, 334)
